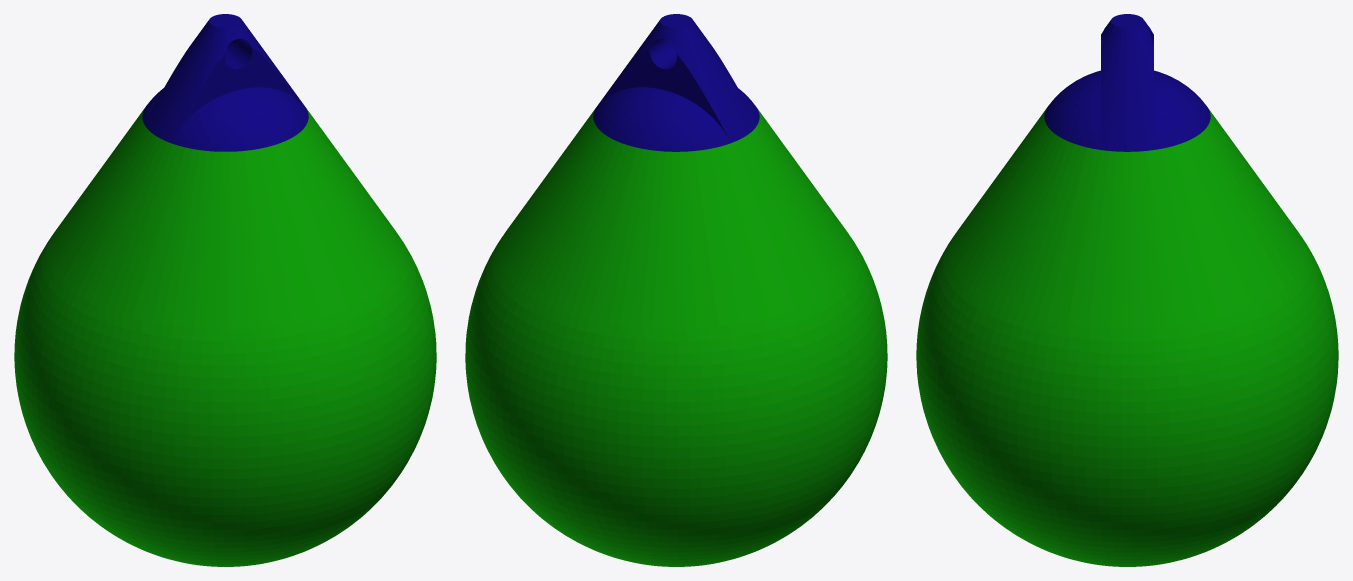
Rendered from GreenRopehold.dae.
The picture shows the model from 3 angles, left to right: view 1: azimuth 30°, elevation 25°; view 2: azimuth 150°, elevation 25°; view 3: azimuth 270°, elevation 25°; orthographic projection.
Parts seen in each view (by area): view 1: RedRopehold; view 2: RedRopehold; view 3: RedRopehold.
Boxes of the visible parts, x1=… form: RedRopehold: x1=14, y1=14, x2=436, y2=566; RedRopehold: x1=465, y1=14, x2=887, y2=566; RedRopehold: x1=916, y1=14, x2=1338, y2=566.
Bounding box in the file's own units: 203 × 203 × 279.
